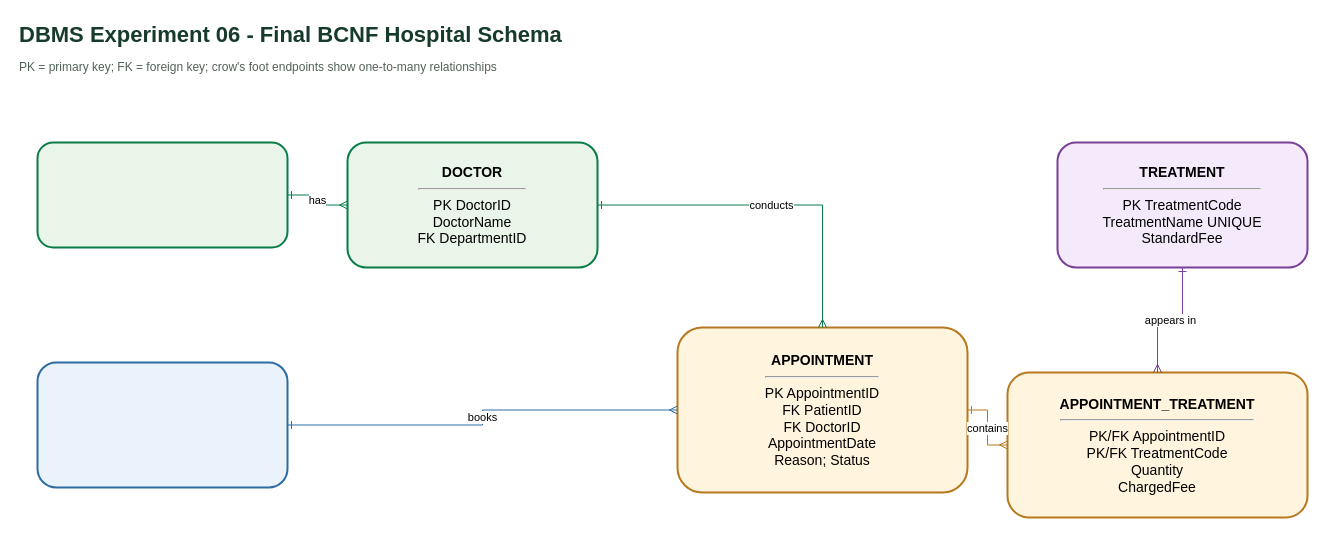
The diagram is 1325 pixels wide and 535 high, and some of its shapes have lost their labels. Each missing label, with the centre of its shape:
DEPARTMENT PK DepartmentID DepartmentName UNIQUE: pixel 162 194
PATIENT PK PatientID PatientName PatientPhone UNIQUE: pixel 162 424
